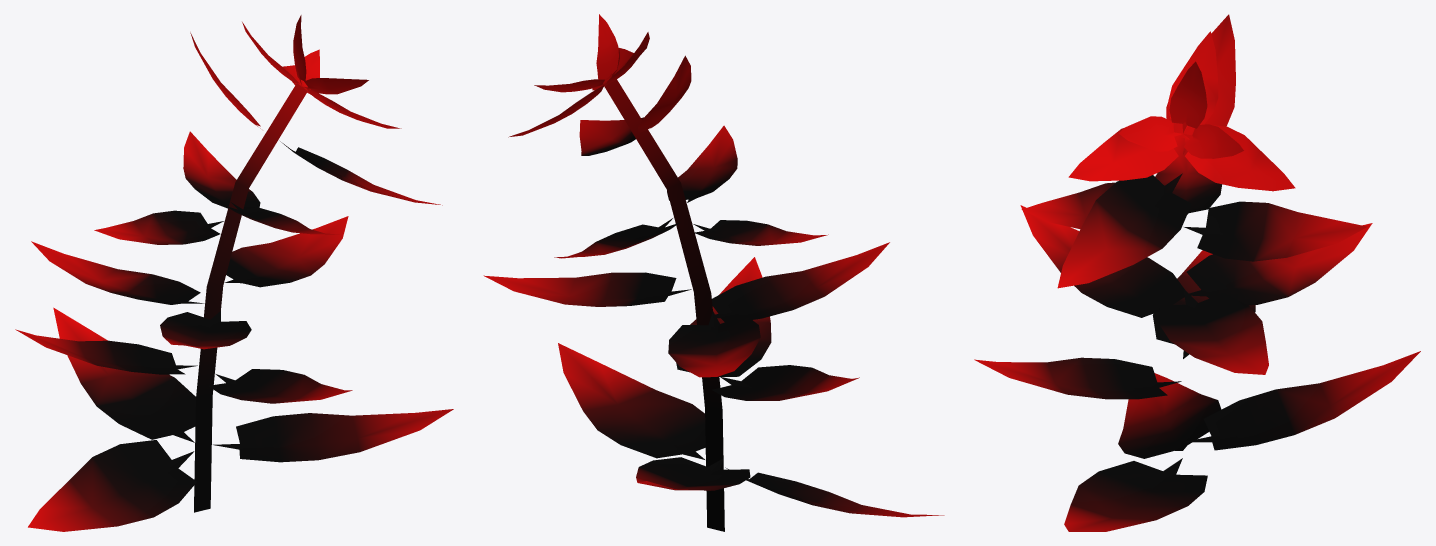
File: SM_Nettle_02_LOD1.fbx
3 renders of one model, left to right at view 1: azimuth 30°, elevation 25°; view 2: azimuth 150°, elevation 25°; view 3: azimuth 270°, elevation 25°, orthographic. The views are drawn at different scales.
Visible parts, largest first — view 1: SM_Nettle_02_LOD1; view 2: SM_Nettle_02_LOD1; view 3: SM_Nettle_02_LOD1.
Part boxes in pixels (x1,y1,x2,y2): SM_Nettle_02_LOD1: (15,15,453,531); SM_Nettle_02_LOD1: (483,14,944,531); SM_Nettle_02_LOD1: (974,14,1420,531).
Bounding box in the file's own units: 123 × 108 × 139.
